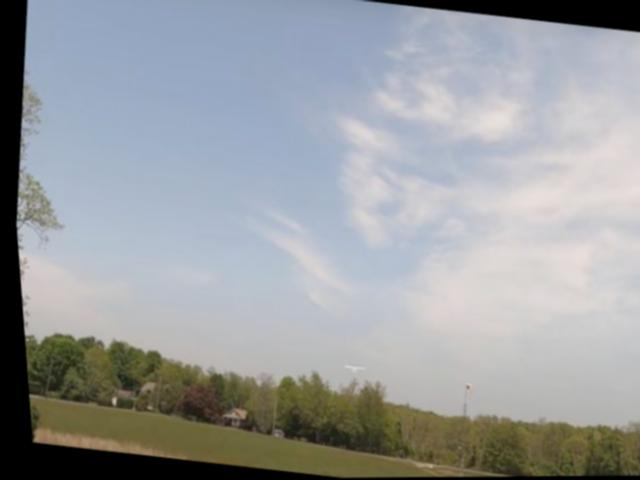iha: (338, 363, 358, 374)
